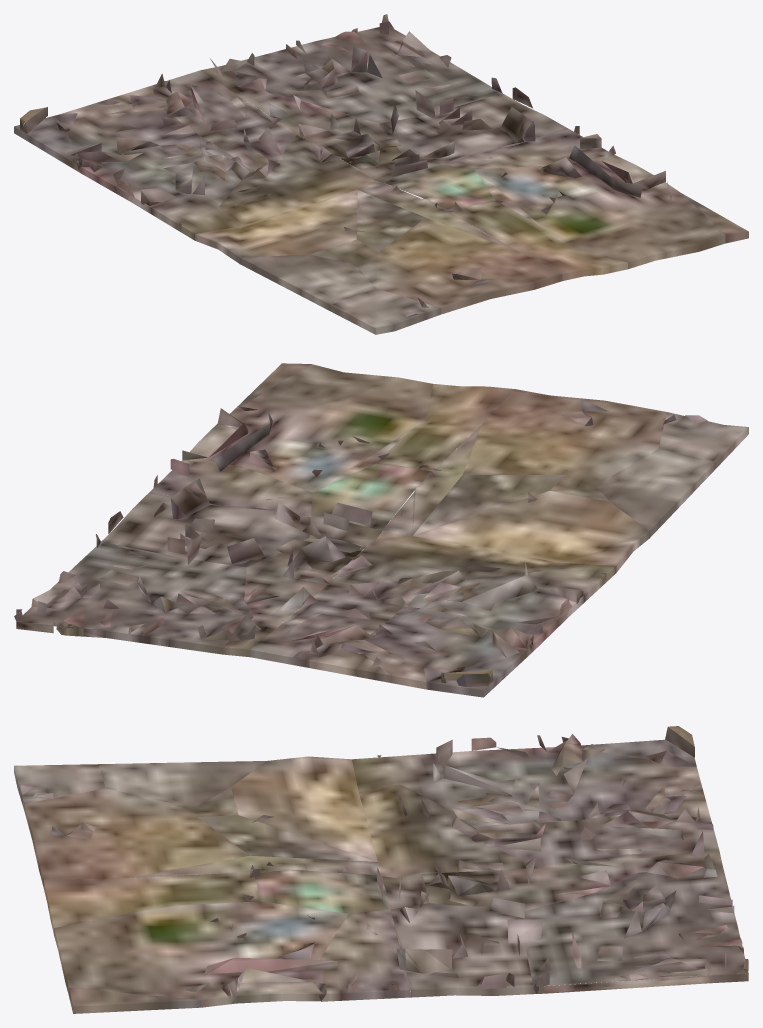
3 views of the same model, one above another, from view 1: azimuth 30°, elevation 25°; view 2: azimuth 150°, elevation 25°; view 3: azimuth 270°, elevation 25° (orthographic). The views are drawn at different scales.
Visible parts, largest first — view 1: Mesh_0; view 2: Mesh_0; view 3: Mesh_0.
Boxes of the visible parts, x1,y1,x2,y2 form: Mesh_0: [14, 14, 748, 334]; Mesh_0: [14, 363, 748, 697]; Mesh_0: [14, 726, 748, 1013].
Bounding box in the file's own units: 1065 × 89.36 × 1319.
Materials: 1 (1 with a texture image).
